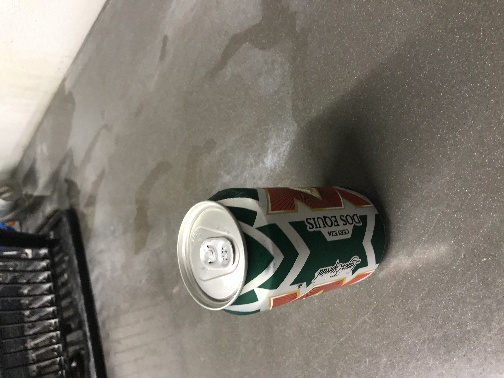DEL: (124, 134, 285, 235)
